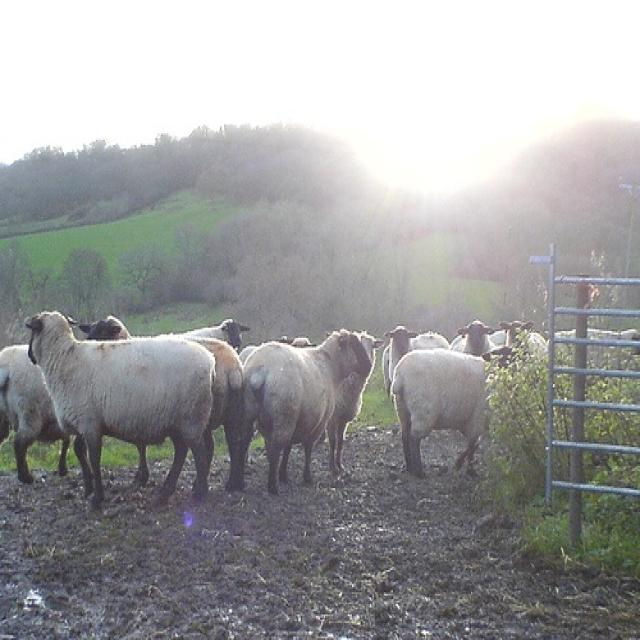sheep: (24, 304, 224, 502), (76, 307, 240, 483), (384, 338, 535, 469), (240, 323, 364, 481), (0, 342, 69, 482), (382, 324, 453, 379), (186, 309, 244, 350), (448, 316, 498, 356), (499, 310, 544, 352)
